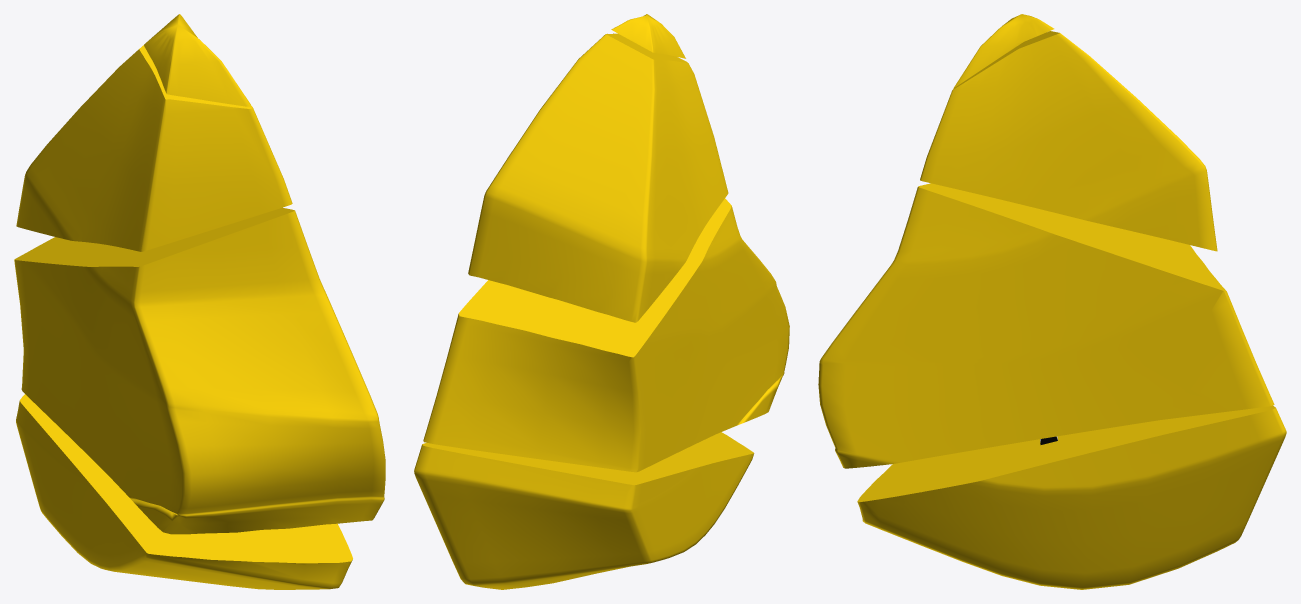
The model's file is resina tagli gemma.glb.
The picture shows the model from 3 angles, left to right: view 1: azimuth 30°, elevation 25°; view 2: azimuth 150°, elevation 25°; view 3: azimuth 270°, elevation 25°; orthographic projection. The views are drawn at different scales.
Visible parts, largest first — view 1: Cube.002; view 2: Cube.002; view 3: Cube.002.
Part boxes in pixels (left/top/right/bottom): Cube.002: left=14, top=14, right=385, bottom=589; Cube.002: left=414, top=14, right=789, bottom=589; Cube.002: left=818, top=14, right=1286, bottom=589.
Size of the model in its own units: 1.27 by 3.89 by 3.05.
Materials: 4 (2 with a texture image).
